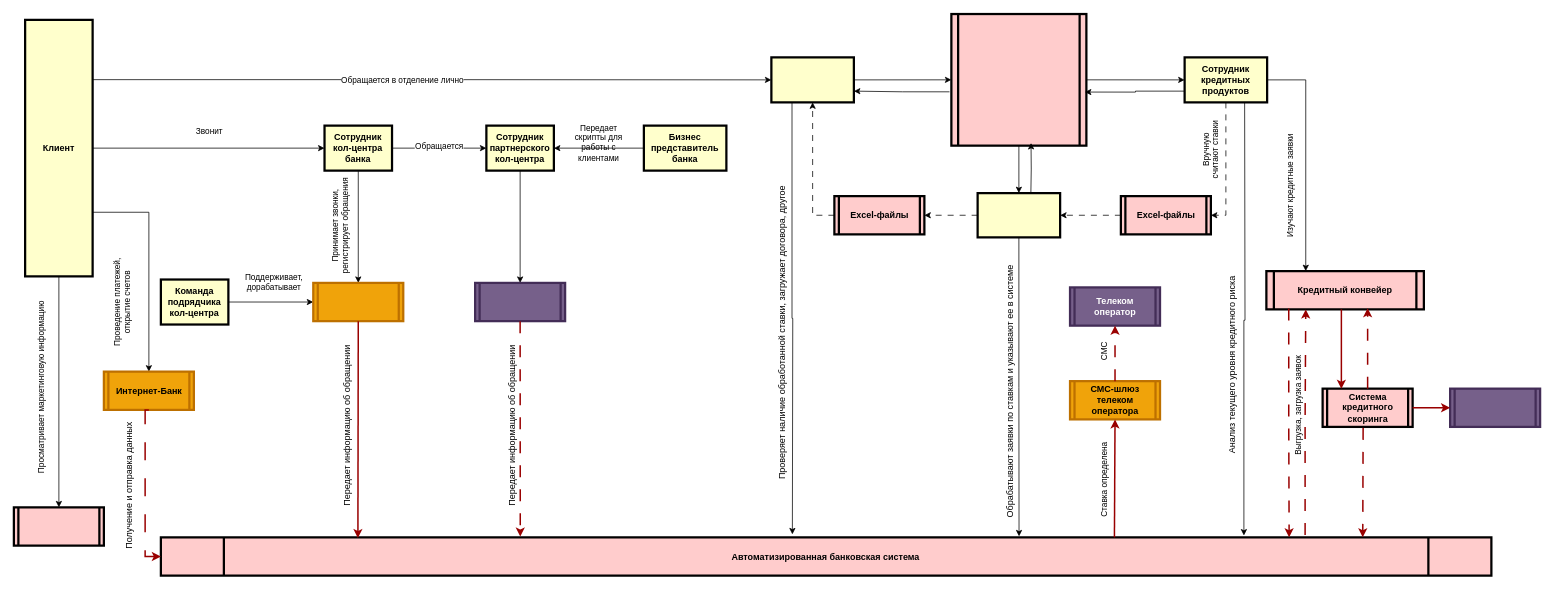
The diagram is 1554 pixels wide and 590 high, and some of its shapes have lost their labels. Here are the shapes that lost their labels. From the top down, the box of each, then its label:
(770, 56, 855, 103): Сотрудник отделения
(950, 13, 1087, 146): Email
(976, 192, 1061, 238): Сотрудник депозитных продуктов
(312, 281, 404, 322): Система кол-центра
(474, 281, 566, 322): Система партнерского кол-центра
(1449, 387, 1541, 428): Бюро кредитных историй
(12, 506, 105, 546): Сайт
